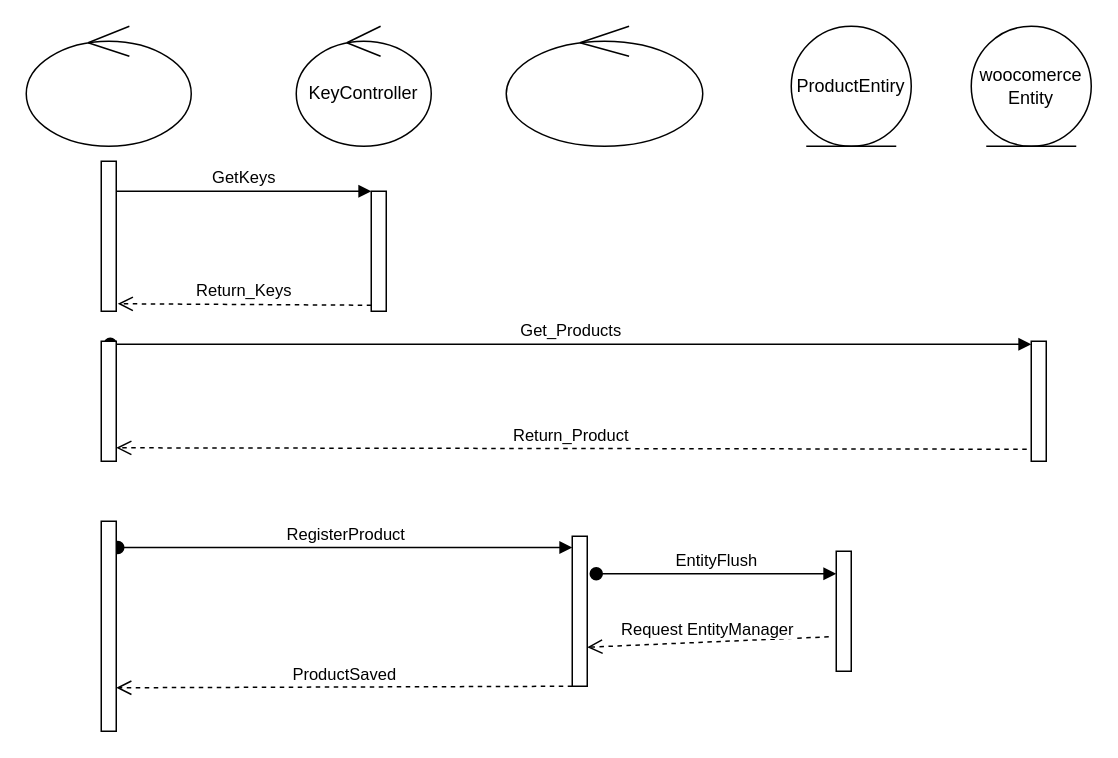
The diagram is 1118 pixels wide and 758 high, and some of its shapes have lost their labels. Each missing label, with the centre of its shape:
ProductsController: point 108,85
ProductsReepository: point 604,85
